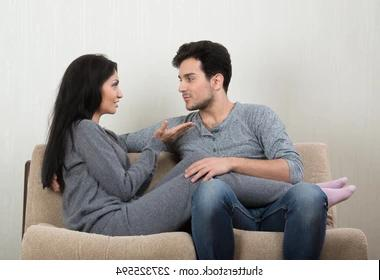long sleeve shirt: (117, 102, 304, 185), (60, 119, 165, 234)
trousers: (101, 149, 296, 237), (189, 178, 328, 260)
